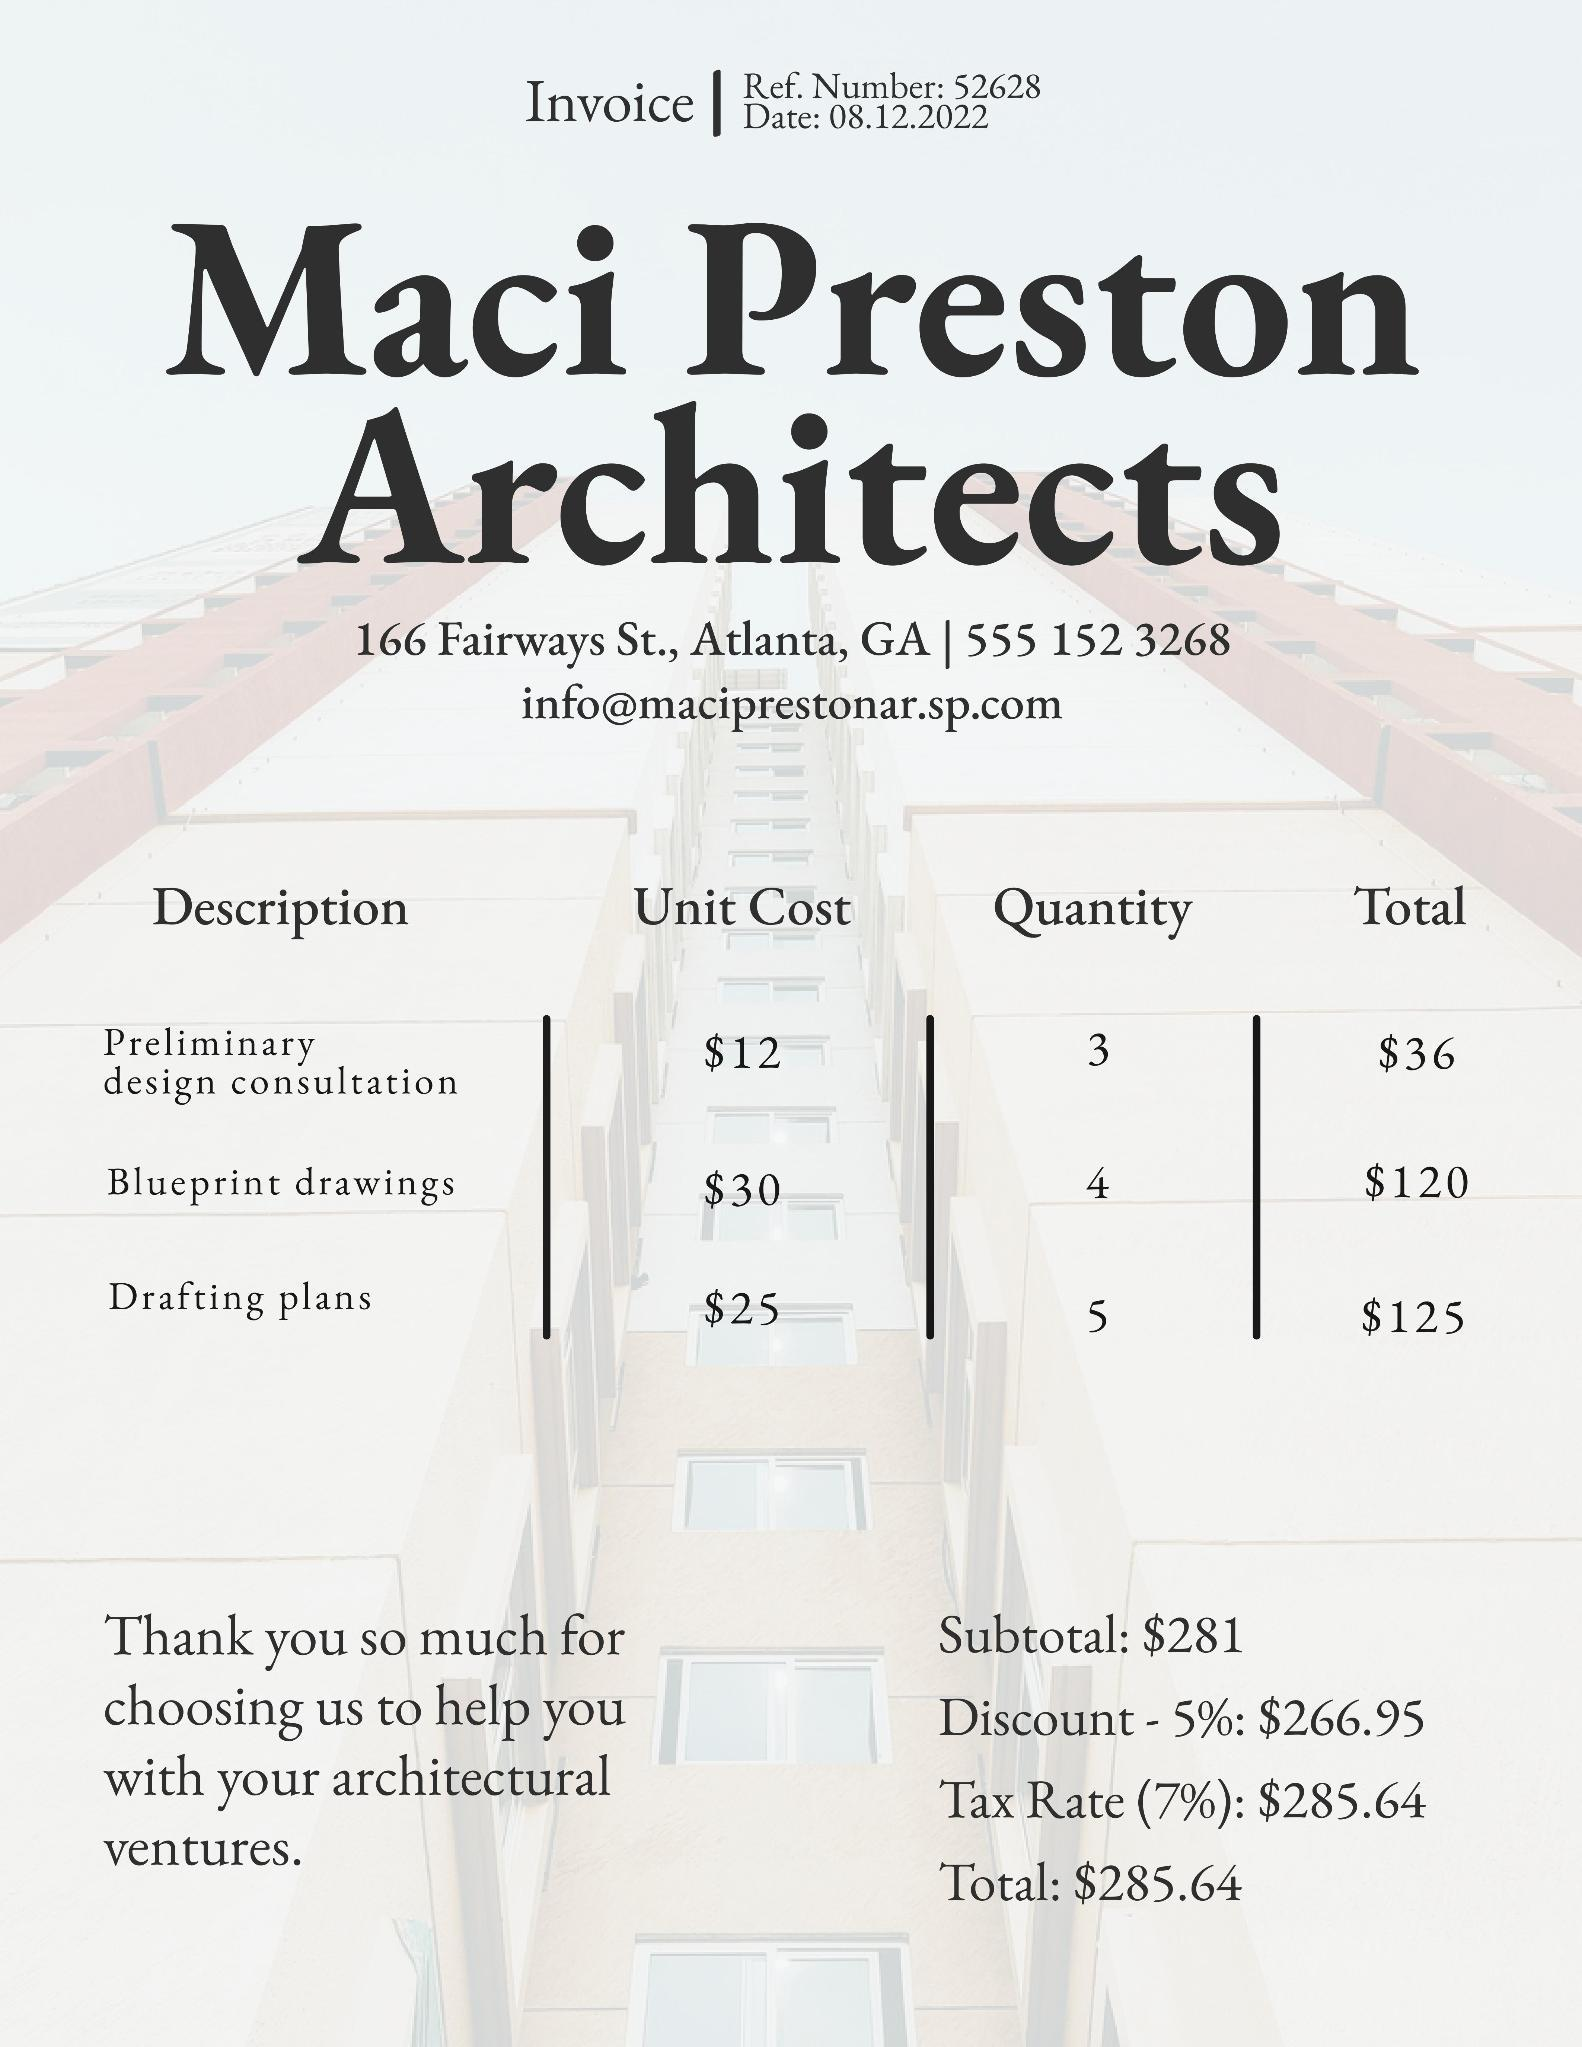ROI: (55, 836, 1511, 1382), (131, 169, 1476, 748), (906, 1567, 1457, 1946), (73, 1573, 648, 1917), (504, 50, 1064, 146)
